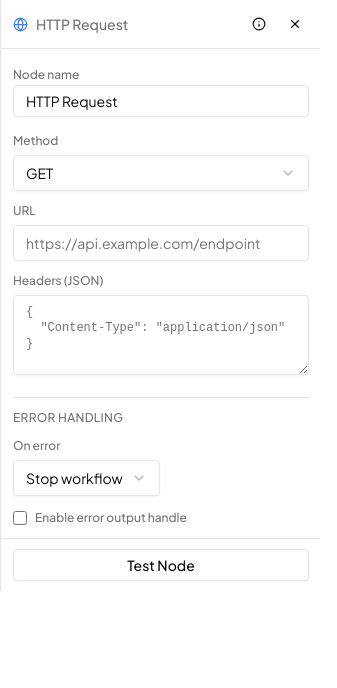
Test: ConfigPanel – Test Node button › clears validation errors and test result when a different node is selected
# Trigger validation errors
Click the button "Test Node". click: {"x": 161, "y": 565}
box: top-left (13, 549), bottom-right (309, 581)
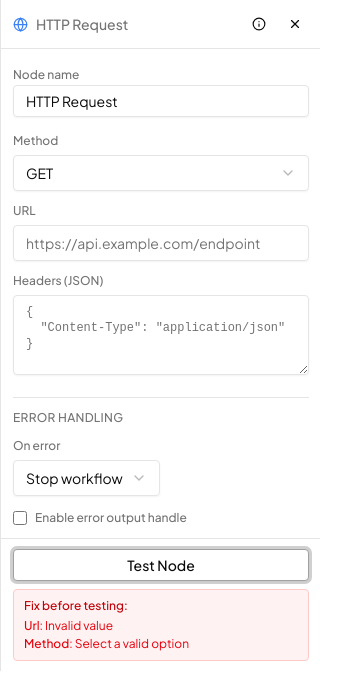
Check: the text "Fix before testing:" is shown, box top-left (24, 598), bottom-right (128, 613)
